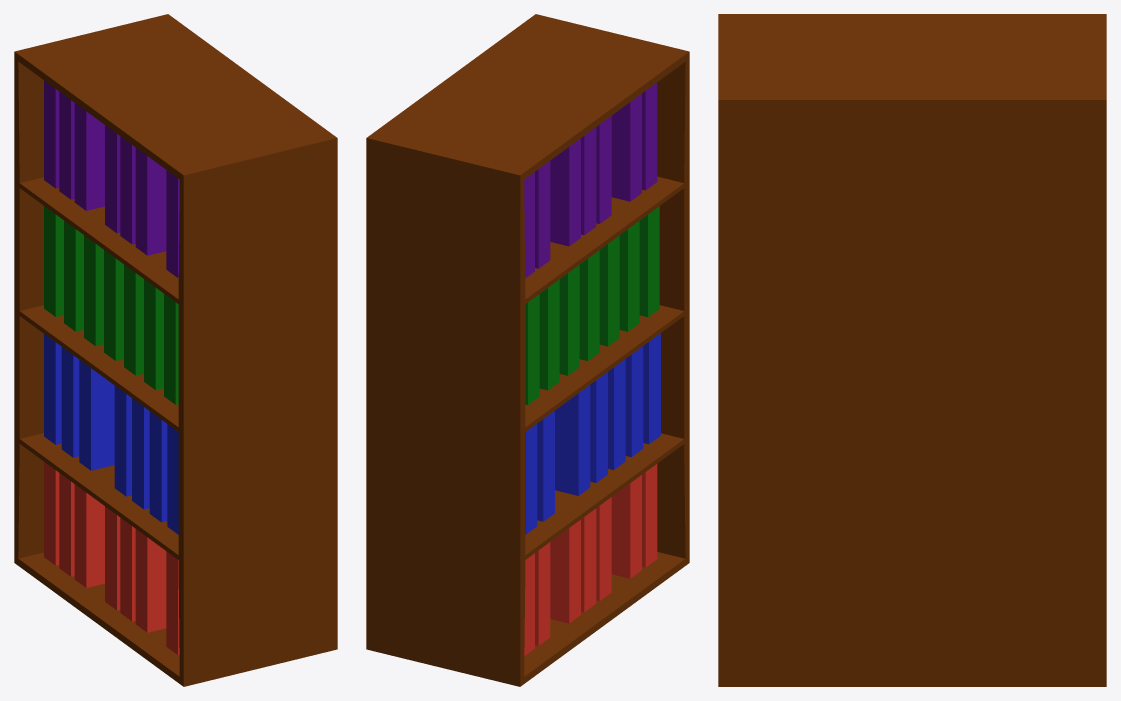
The model's file is Bookshelf.fbx.
3 renders of one model, left to right at view 1: azimuth 30°, elevation 25°; view 2: azimuth 150°, elevation 25°; view 3: azimuth 270°, elevation 25°, orthographic. The views are drawn at different scales.
Parts seen in each view (by area): view 1: Bookshelf; view 2: Bookshelf; view 3: Bookshelf.
Boxes of the visible parts, x1=… form: Bookshelf: x1=14, y1=14, x2=337, y2=686; Bookshelf: x1=366, y1=14, x2=689, y2=686; Bookshelf: x1=718, y1=14, x2=1106, y2=686.
Bounding box in the file's own units: 44.73 × 85.33 × 142.
